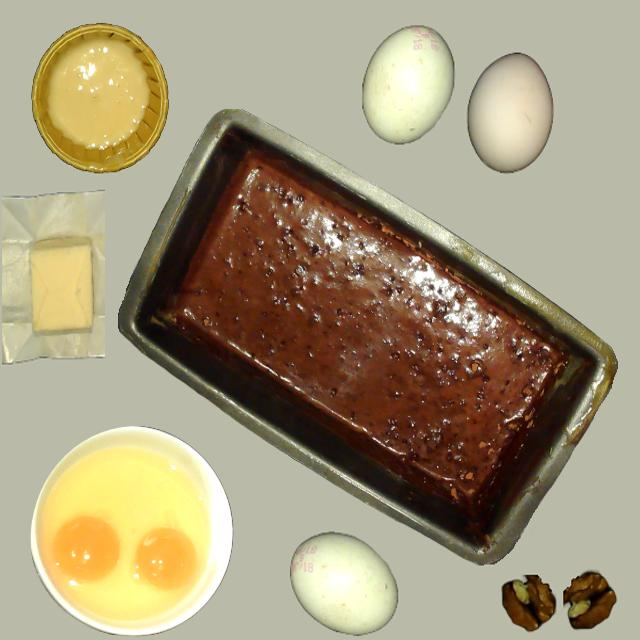Egg: (48, 451, 202, 618), (52, 515, 120, 583)
